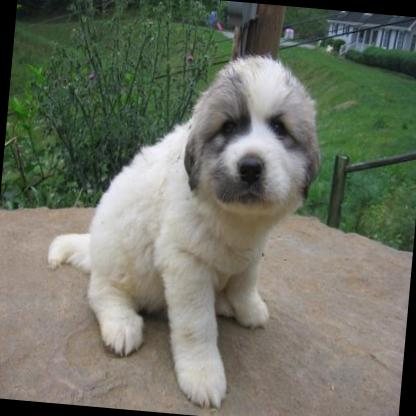Great_Pyrenees: (32, 36, 328, 416)
